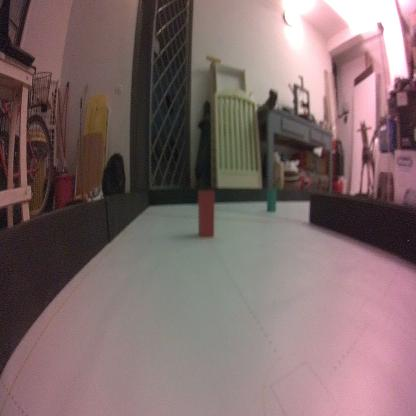green: (265, 185, 277, 213)
red: (196, 184, 216, 238)
